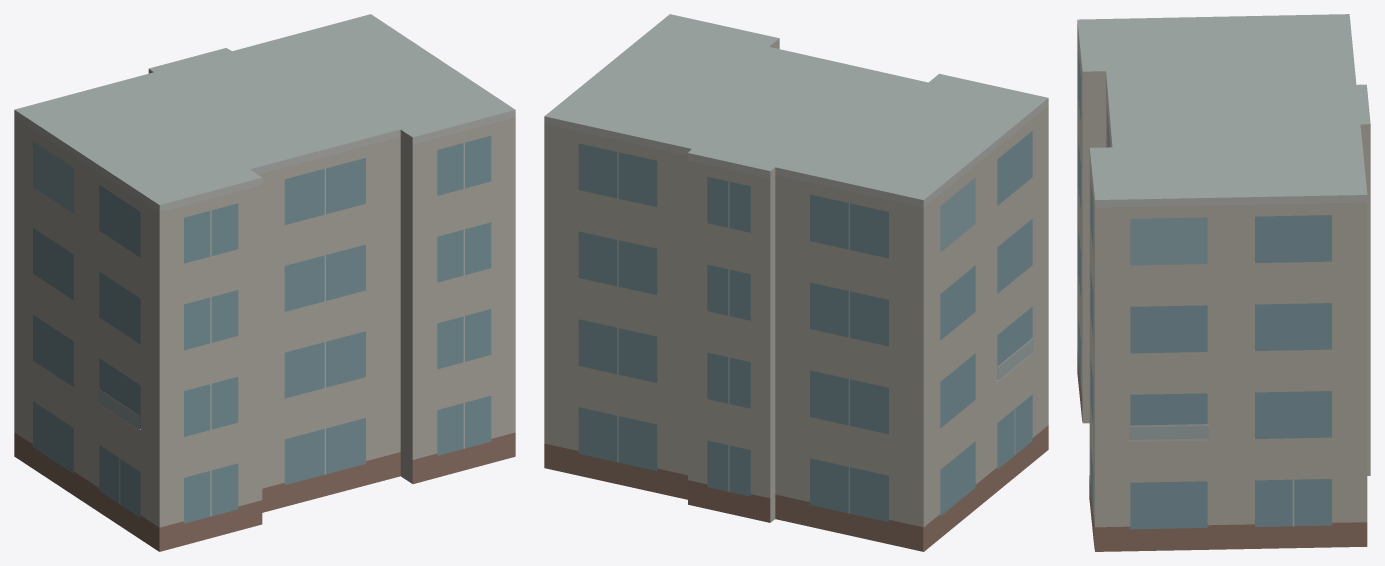
File: survey-upis-32974773.glb
3 renders of one model, left to right at view 1: azimuth 30°, elevation 25°; view 2: azimuth 150°, elevation 25°; view 3: azimuth 270°, elevation 25°, orthographic.
Visible parts, largest first — view 1: survey-upis-32974773.tmp; view 2: survey-upis-32974773.tmp; view 3: survey-upis-32974773.tmp.
Boxes of the visible parts, left/top/right/bottom form: survey-upis-32974773.tmp: left=14, top=14, right=515, bottom=551; survey-upis-32974773.tmp: left=544, top=14, right=1048, bottom=551; survey-upis-32974773.tmp: left=1077, top=14, right=1370, bottom=551.
Size of the model in its own units: 13.17 by 11.6 by 8.77.
